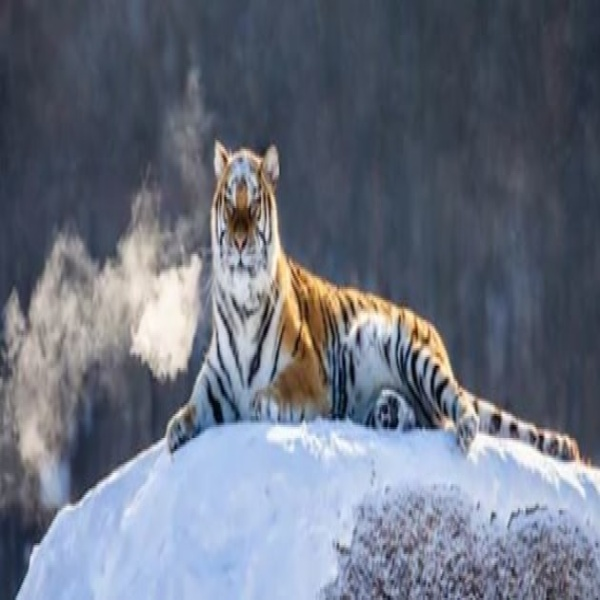Tiger: (162, 135, 586, 465)
